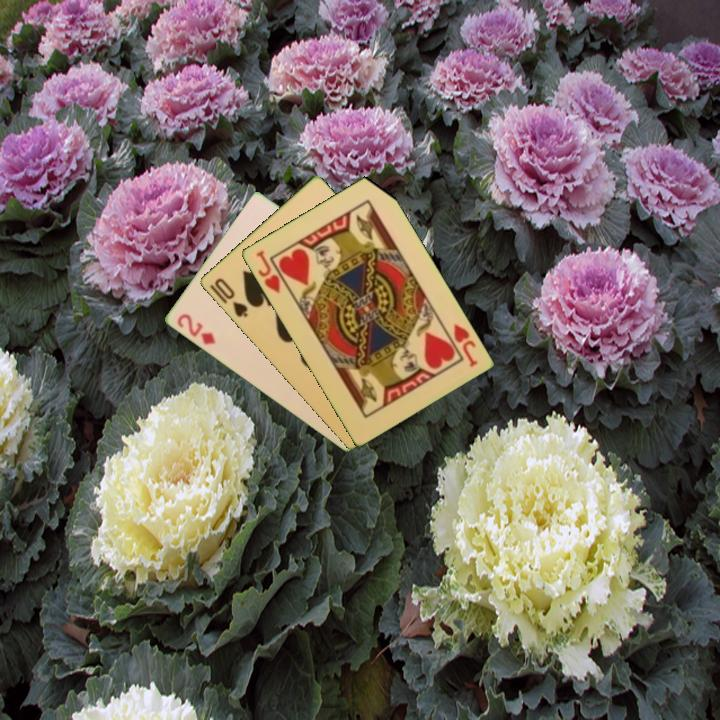10s: (211, 274, 251, 320)
2d: (173, 310, 218, 348)
Jh: (252, 246, 283, 296), (449, 320, 480, 370)
